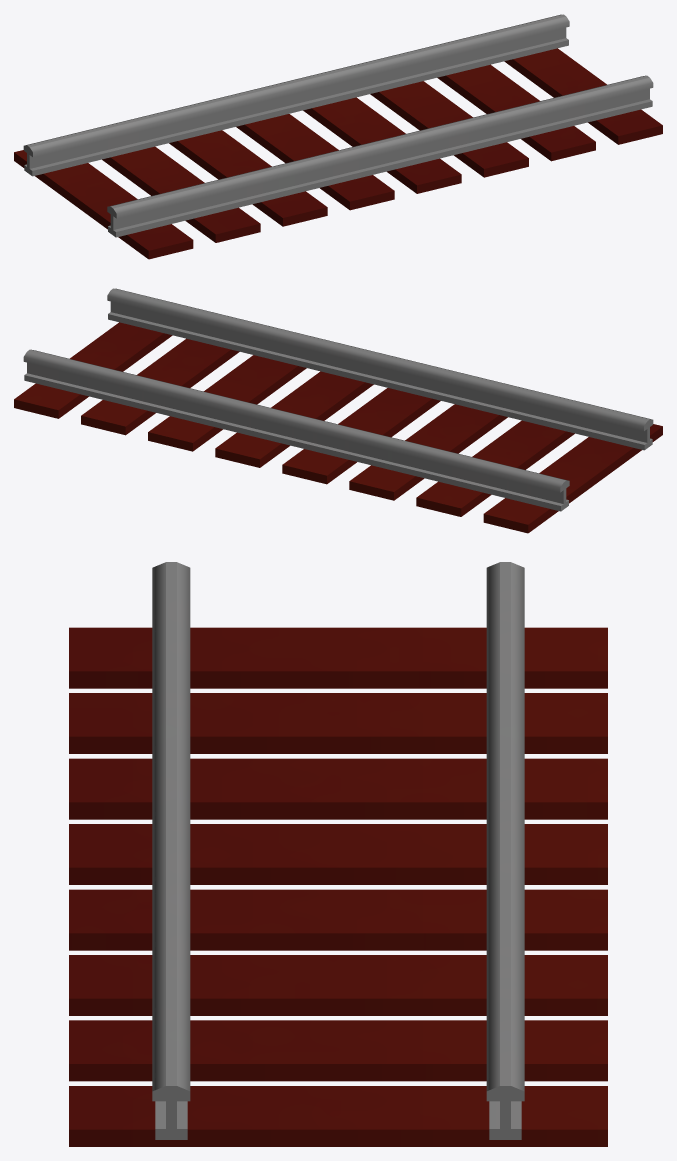
Rendered from Trilho 1.fbx.
3 views of the same model, one above another, from view 1: azimuth 30°, elevation 25°; view 2: azimuth 150°, elevation 25°; view 3: azimuth 270°, elevation 25° (orthographic). The views are drawn at different scales.
Visible parts, largest first — view 1: Trilho 1 ferro, Trilho 1; view 2: Trilho 1 ferro, Trilho 1; view 3: Trilho 1, Trilho 1 ferro.
Part boxes in pixels (x1=…): Trilho 1 ferro: x1=23, y1=14, x2=653, y2=237; Trilho 1: x1=14, y1=48, x2=662, y2=259; Trilho 1 ferro: x1=23, y1=288, x2=653, y2=511; Trilho 1: x1=14, y1=322, x2=662, y2=533; Trilho 1: x1=69, y1=627, x2=607, y2=1146; Trilho 1 ferro: x1=152, y1=562, x2=524, y2=1139.
Size of the model in its own units: 1037 by 66.46 by 451.
1 material, 1 textured.
